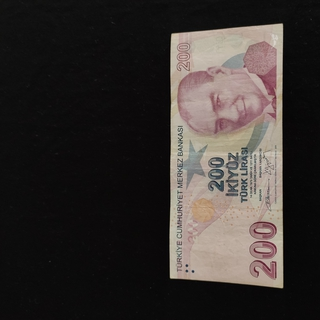200TLFront: (169, 23, 283, 289)
